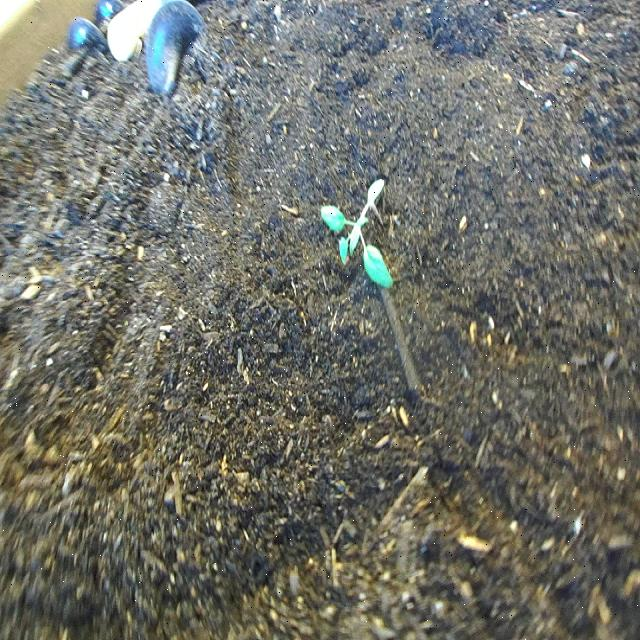Unhealthy: (316, 164, 402, 296)
